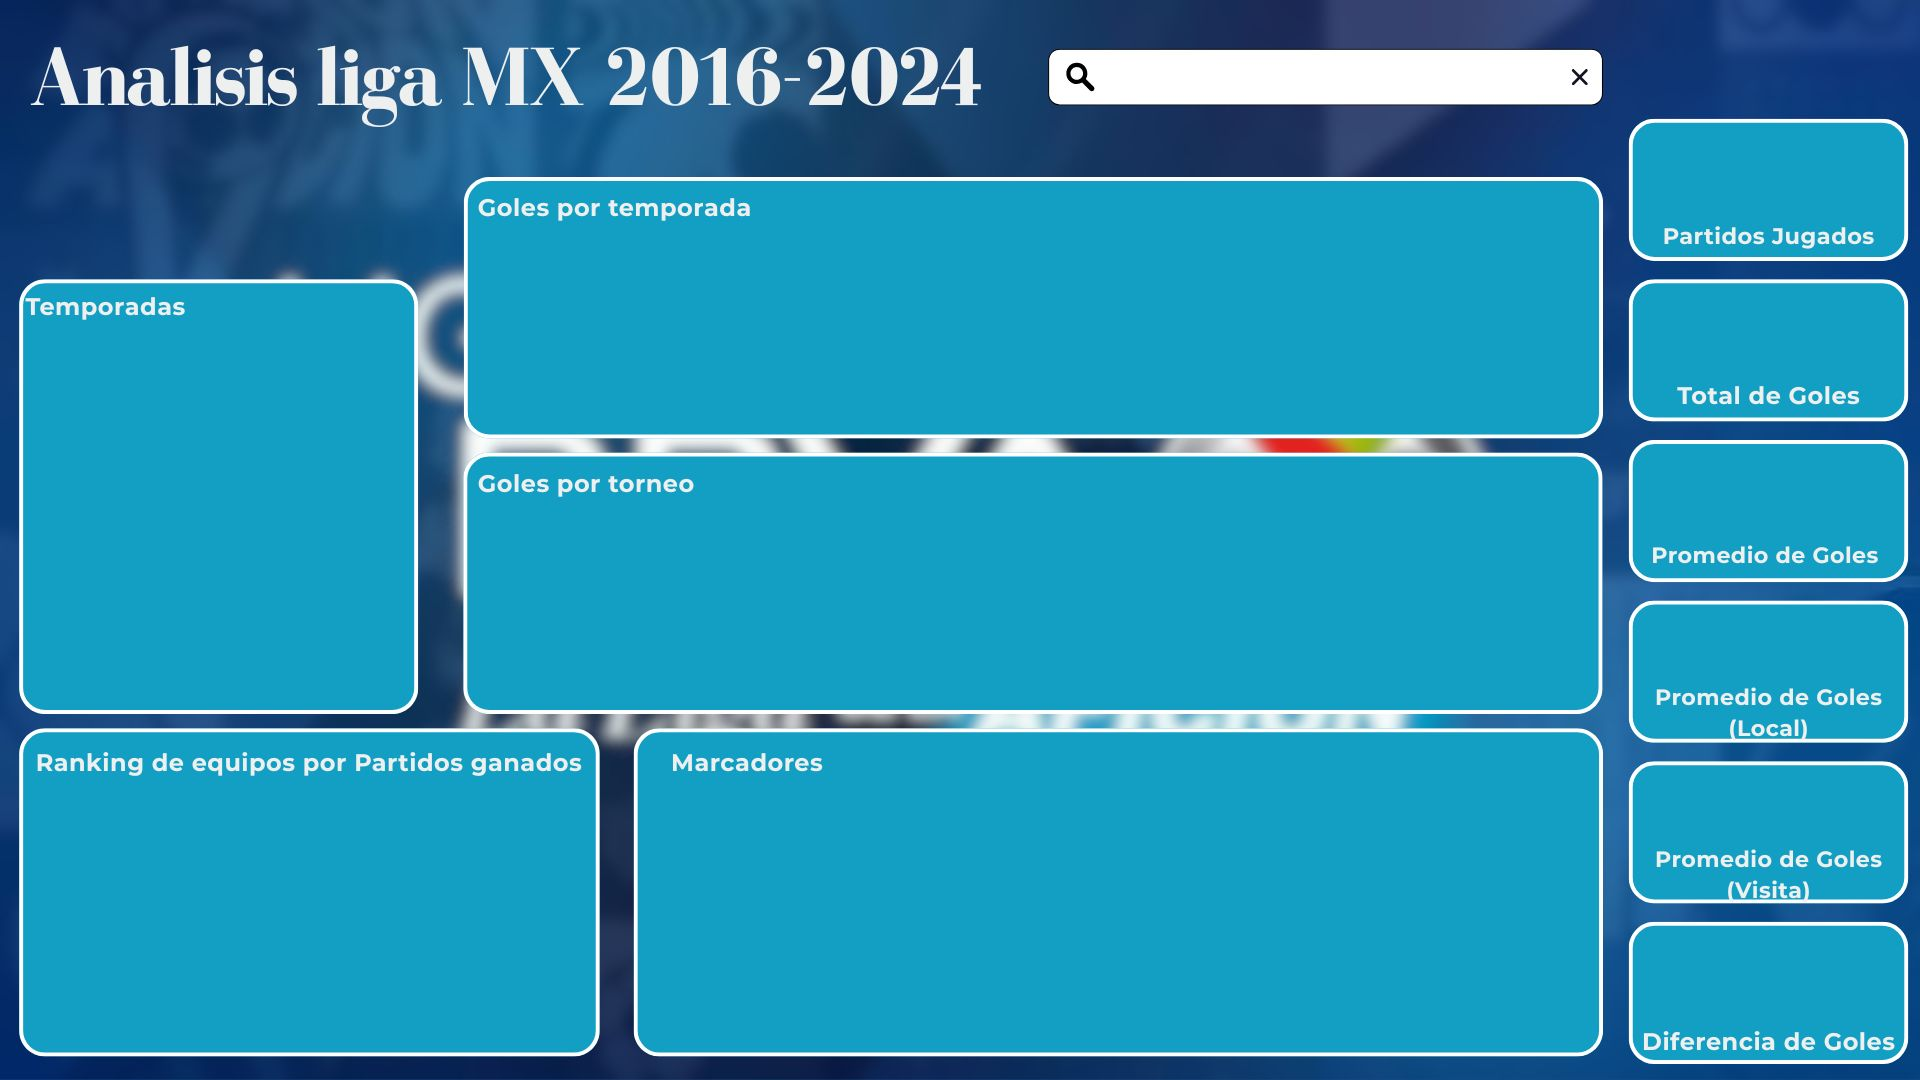

This screenshot's page, from the dashboard's own definition file:
{"tool":"powerbi","page":{"name":"Página 1","canvas":[1280,720],"ordinal":0},"visuals":[{"type":"slicer","fields":{"Values":["2016-2024_liga_mx.season"]},"box":[20.3,221.6,245.7,243.1],"z":0},{"type":"card","fields":{"Values":["2016-2024_liga_mx.partidosTotales"]},"box":[1099.2,88.6,158.3,79.8],"z":1000},{"type":"card","fields":{"Values":["2016-2024_liga_mx.TotalGoles"]},"box":[1108,191.2,140.6,87.4],"z":2000},{"type":"card","fields":{"Values":["Avg(2016-2024_liga_mx.home_goals)"]},"box":[1108,393.8,140.6,79.8],"z":3000},{"type":"card","fields":{"Values":["Avg(2016-2024_liga_mx.away_goals)"]},"box":[1077.6,497.7,201.3,91.2],"z":4000},{"type":"clusteredColumnChart","fields":{"Category":["2016-2024_liga_mx.tournament"],"Y":["2016-2024_liga_mx.TotalGoles"]},"box":[334.3,333,712.9,140.6],"z":5000},{"type":"card","fields":{"Values":["2016-2024_liga_mx.difGoles"]},"box":[1087.8,621.8,181.1,72.2],"z":6000},{"type":"slicer","fields":{"Values":["2016-2024_liga_mx.home_team"]},"box":[739.5,27.9,316.6,40.5],"z":7000},{"type":"card","fields":{"Values":["2016-2024_liga_mx.Promedio Goles Equipo"]},"box":[1086.5,297.6,181.1,89.9],"z":8000},{"type":"tableEx","fields":{"Values":["2016-2024_liga_mx.home_team","2016-2024_liga_mx.PartidosGanados","2016-2024_liga_mx.Total Victorias","Divide(2016-2024_liga_mx.Total Victorias, ScopedEval(2016-2024_liga_mx.Total Victorias, []))"]},"box":[20.3,523,369.8,171],"z":10000},{"type":"tableEx","fields":{"Values":["2016-2024_liga_mx.home_team","2016-2024_liga_mx.away_team","Sum(2016-2024_liga_mx.home_goals)","Sum(2016-2024_liga_mx.away_goals)","2016-2024_liga_mx.date.Variación.Jerarquía de fechas.Año"]},"box":[448,522.5,598.4,171.6],"z":11000},{"type":"slicer","fields":{"Values":["2016-2024_liga_mx.jornada"]},"box":[20.3,98.8,245.7,69.6],"z":12000},{"type":"lineChart","fields":{"Y":["2016-2024_liga_mx.TotalGoles"],"Category":["2016-2024_liga_mx.season"]},"box":[310.3,150.7,737,141.8],"z":13000}]}

Visuals, with their boxes in screenshot pixels (x1, y1, x2, y2), scaled from the page's 1280x720 canvas onto the 1920x1080 screenshot:
slicer - 2016-2024_liga_mx.season: Rect(30, 332, 399, 697)
card - 2016-2024_liga_mx.partidosTotales: Rect(1649, 133, 1886, 253)
card - 2016-2024_liga_mx.TotalGoles: Rect(1662, 287, 1873, 418)
card - Avg(2016-2024_liga_mx.home_goals): Rect(1662, 591, 1873, 710)
card - Avg(2016-2024_liga_mx.away_goals): Rect(1616, 747, 1918, 883)
clusteredColumnChart - 2016-2024_liga_mx.tournament x 2016-2024_liga_mx.TotalGoles: Rect(501, 500, 1571, 710)
card - 2016-2024_liga_mx.difGoles: Rect(1632, 933, 1903, 1041)
slicer - 2016-2024_liga_mx.home_team: Rect(1109, 42, 1584, 103)
card - 2016-2024_liga_mx.Promedio Goles Equipo: Rect(1630, 446, 1901, 581)
tableEx - 2016-2024_liga_mx.home_team x 2016-2024_liga_mx.PartidosGanados: Rect(30, 784, 585, 1041)
tableEx - 2016-2024_liga_mx.home_team x 2016-2024_liga_mx.away_team: Rect(672, 784, 1570, 1041)
slicer - 2016-2024_liga_mx.jornada: Rect(30, 148, 399, 253)
lineChart - 2016-2024_liga_mx.TotalGoles x 2016-2024_liga_mx.season: Rect(465, 226, 1571, 439)
